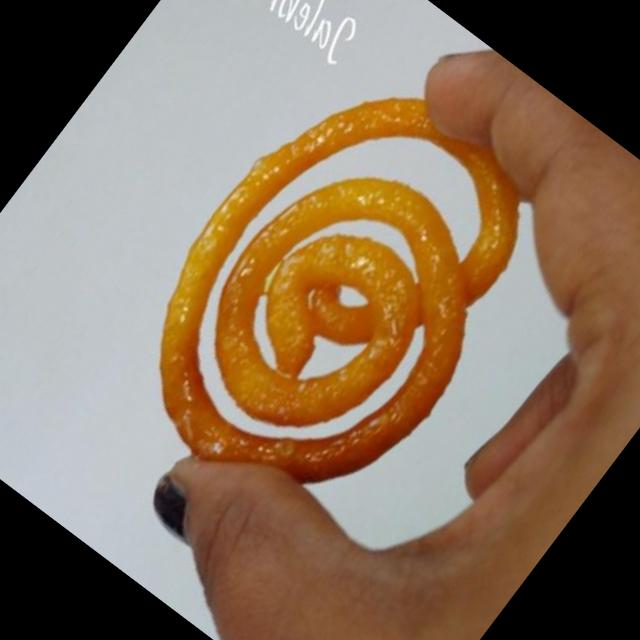jalebi: (93, 42, 566, 542)
